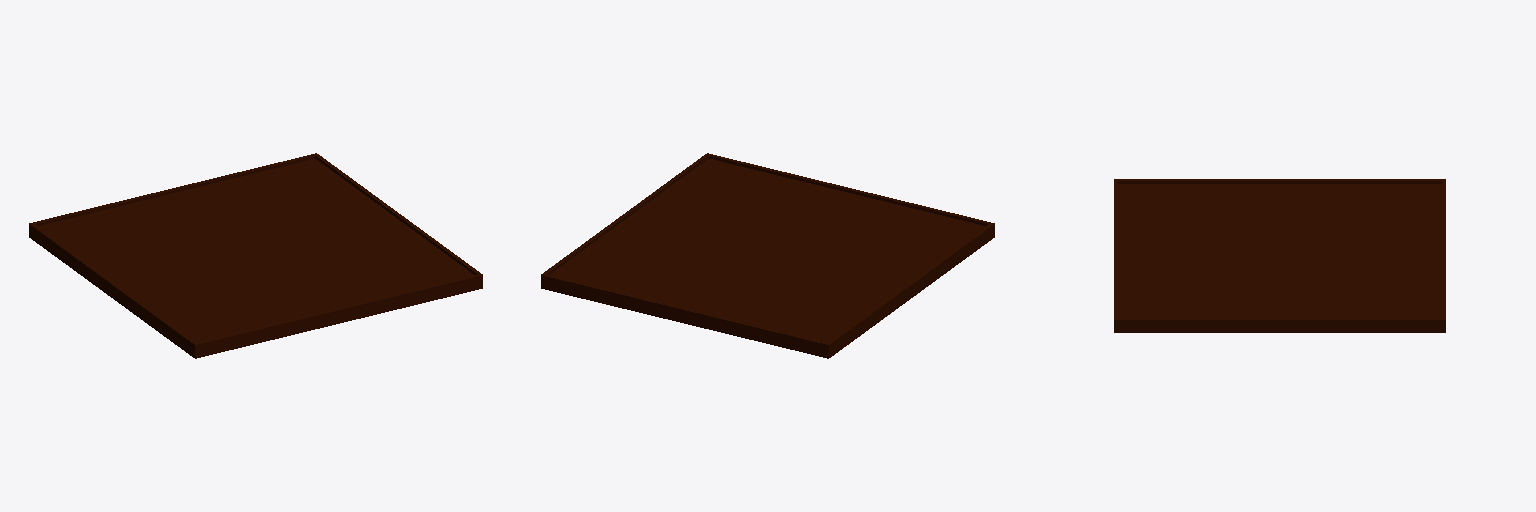
Rendered from 4x4_floor.obj.
3 views of the same model, side by side, from view 1: azimuth 30°, elevation 25°; view 2: azimuth 150°, elevation 25°; view 3: azimuth 270°, elevation 25° (orthographic).
Visible parts, largest first — view 1: Cube; view 2: Cube; view 3: Cube.
Boxes of the visible parts, box(x1,y1,x2,y2) form: Cube: box(29, 153, 482, 358); Cube: box(541, 153, 994, 358); Cube: box(1114, 179, 1445, 332).
Size of the model in its own units: 4 by 0.18 by 4.